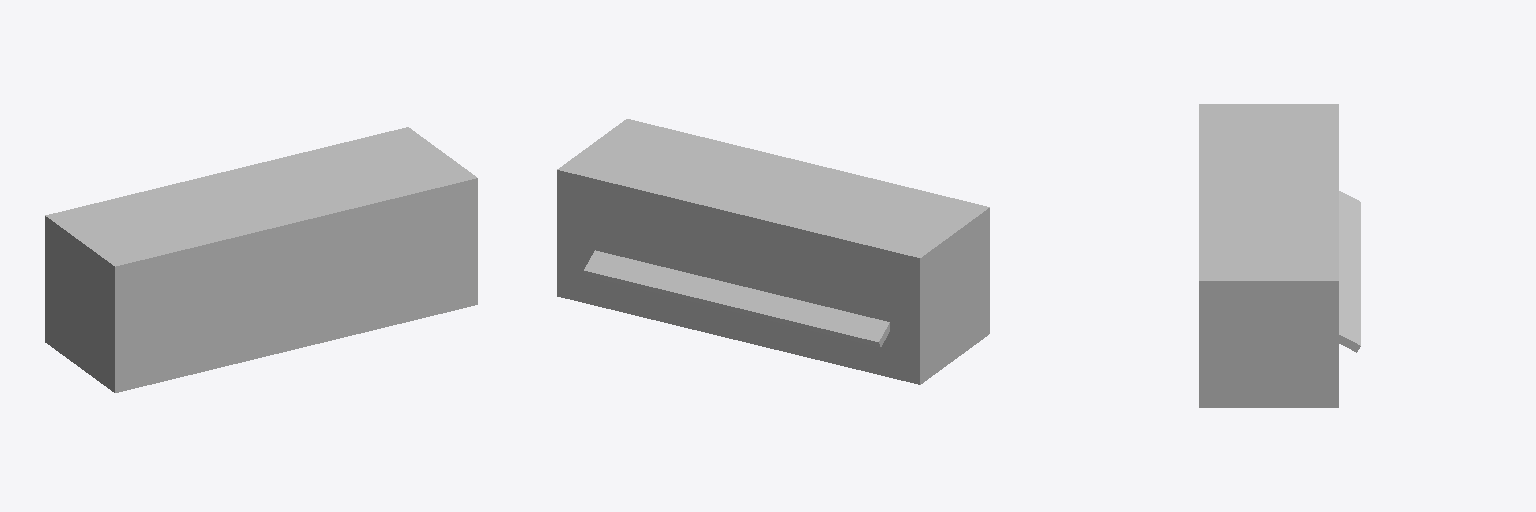
The model's file is indoor_ac_unit.obj.
3 views of the same model, side by side, from view 1: azimuth 30°, elevation 25°; view 2: azimuth 150°, elevation 25°; view 3: azimuth 270°, elevation 25° (orthographic).
Visible parts, largest first — view 1: cube; view 2: cube; view 3: cube.
Boxes of the visible parts, x1,y1,x2,y2 form: cube: [45, 127, 477, 392]; cube: [557, 119, 989, 384]; cube: [1199, 104, 1360, 407].
Bounding box in the file's own units: 3 × 1 × 1.16.